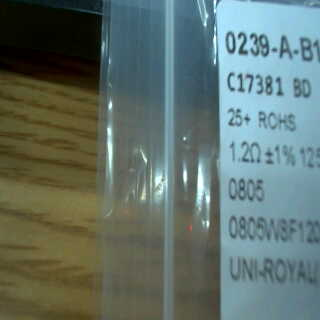3.3kO: (158, 106, 205, 175)
